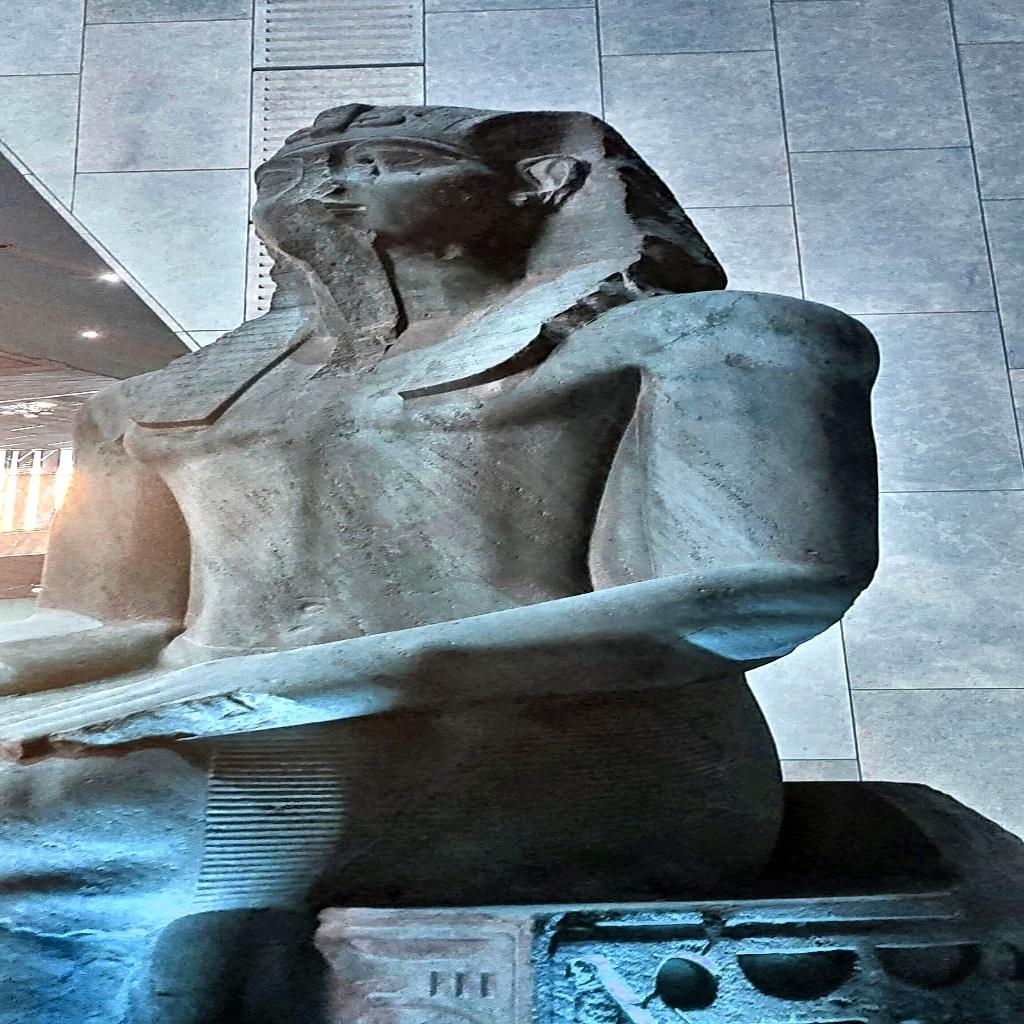Colossal Statue of Middle Kingdom King: (0, 100, 910, 1024)
